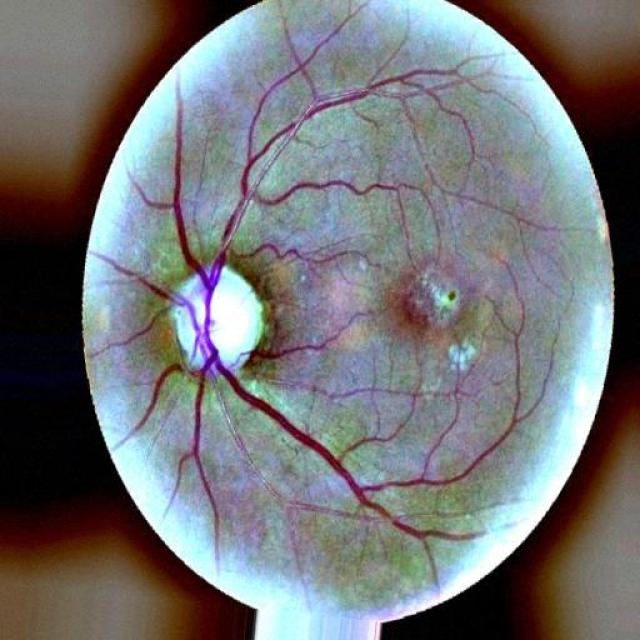Macula: (432, 285, 459, 310)
Nerves: (138, 21, 526, 539)
Optic Disk: (170, 265, 264, 371)
